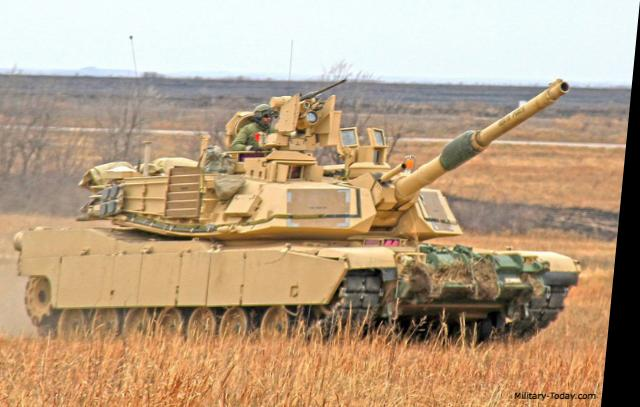tank: (31, 153, 574, 338)
